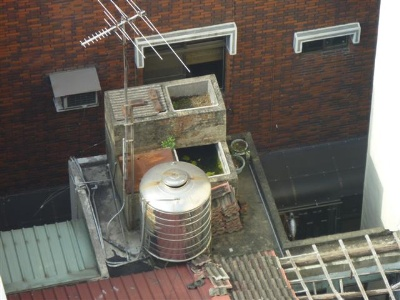water_tower: (139, 160, 213, 263)
